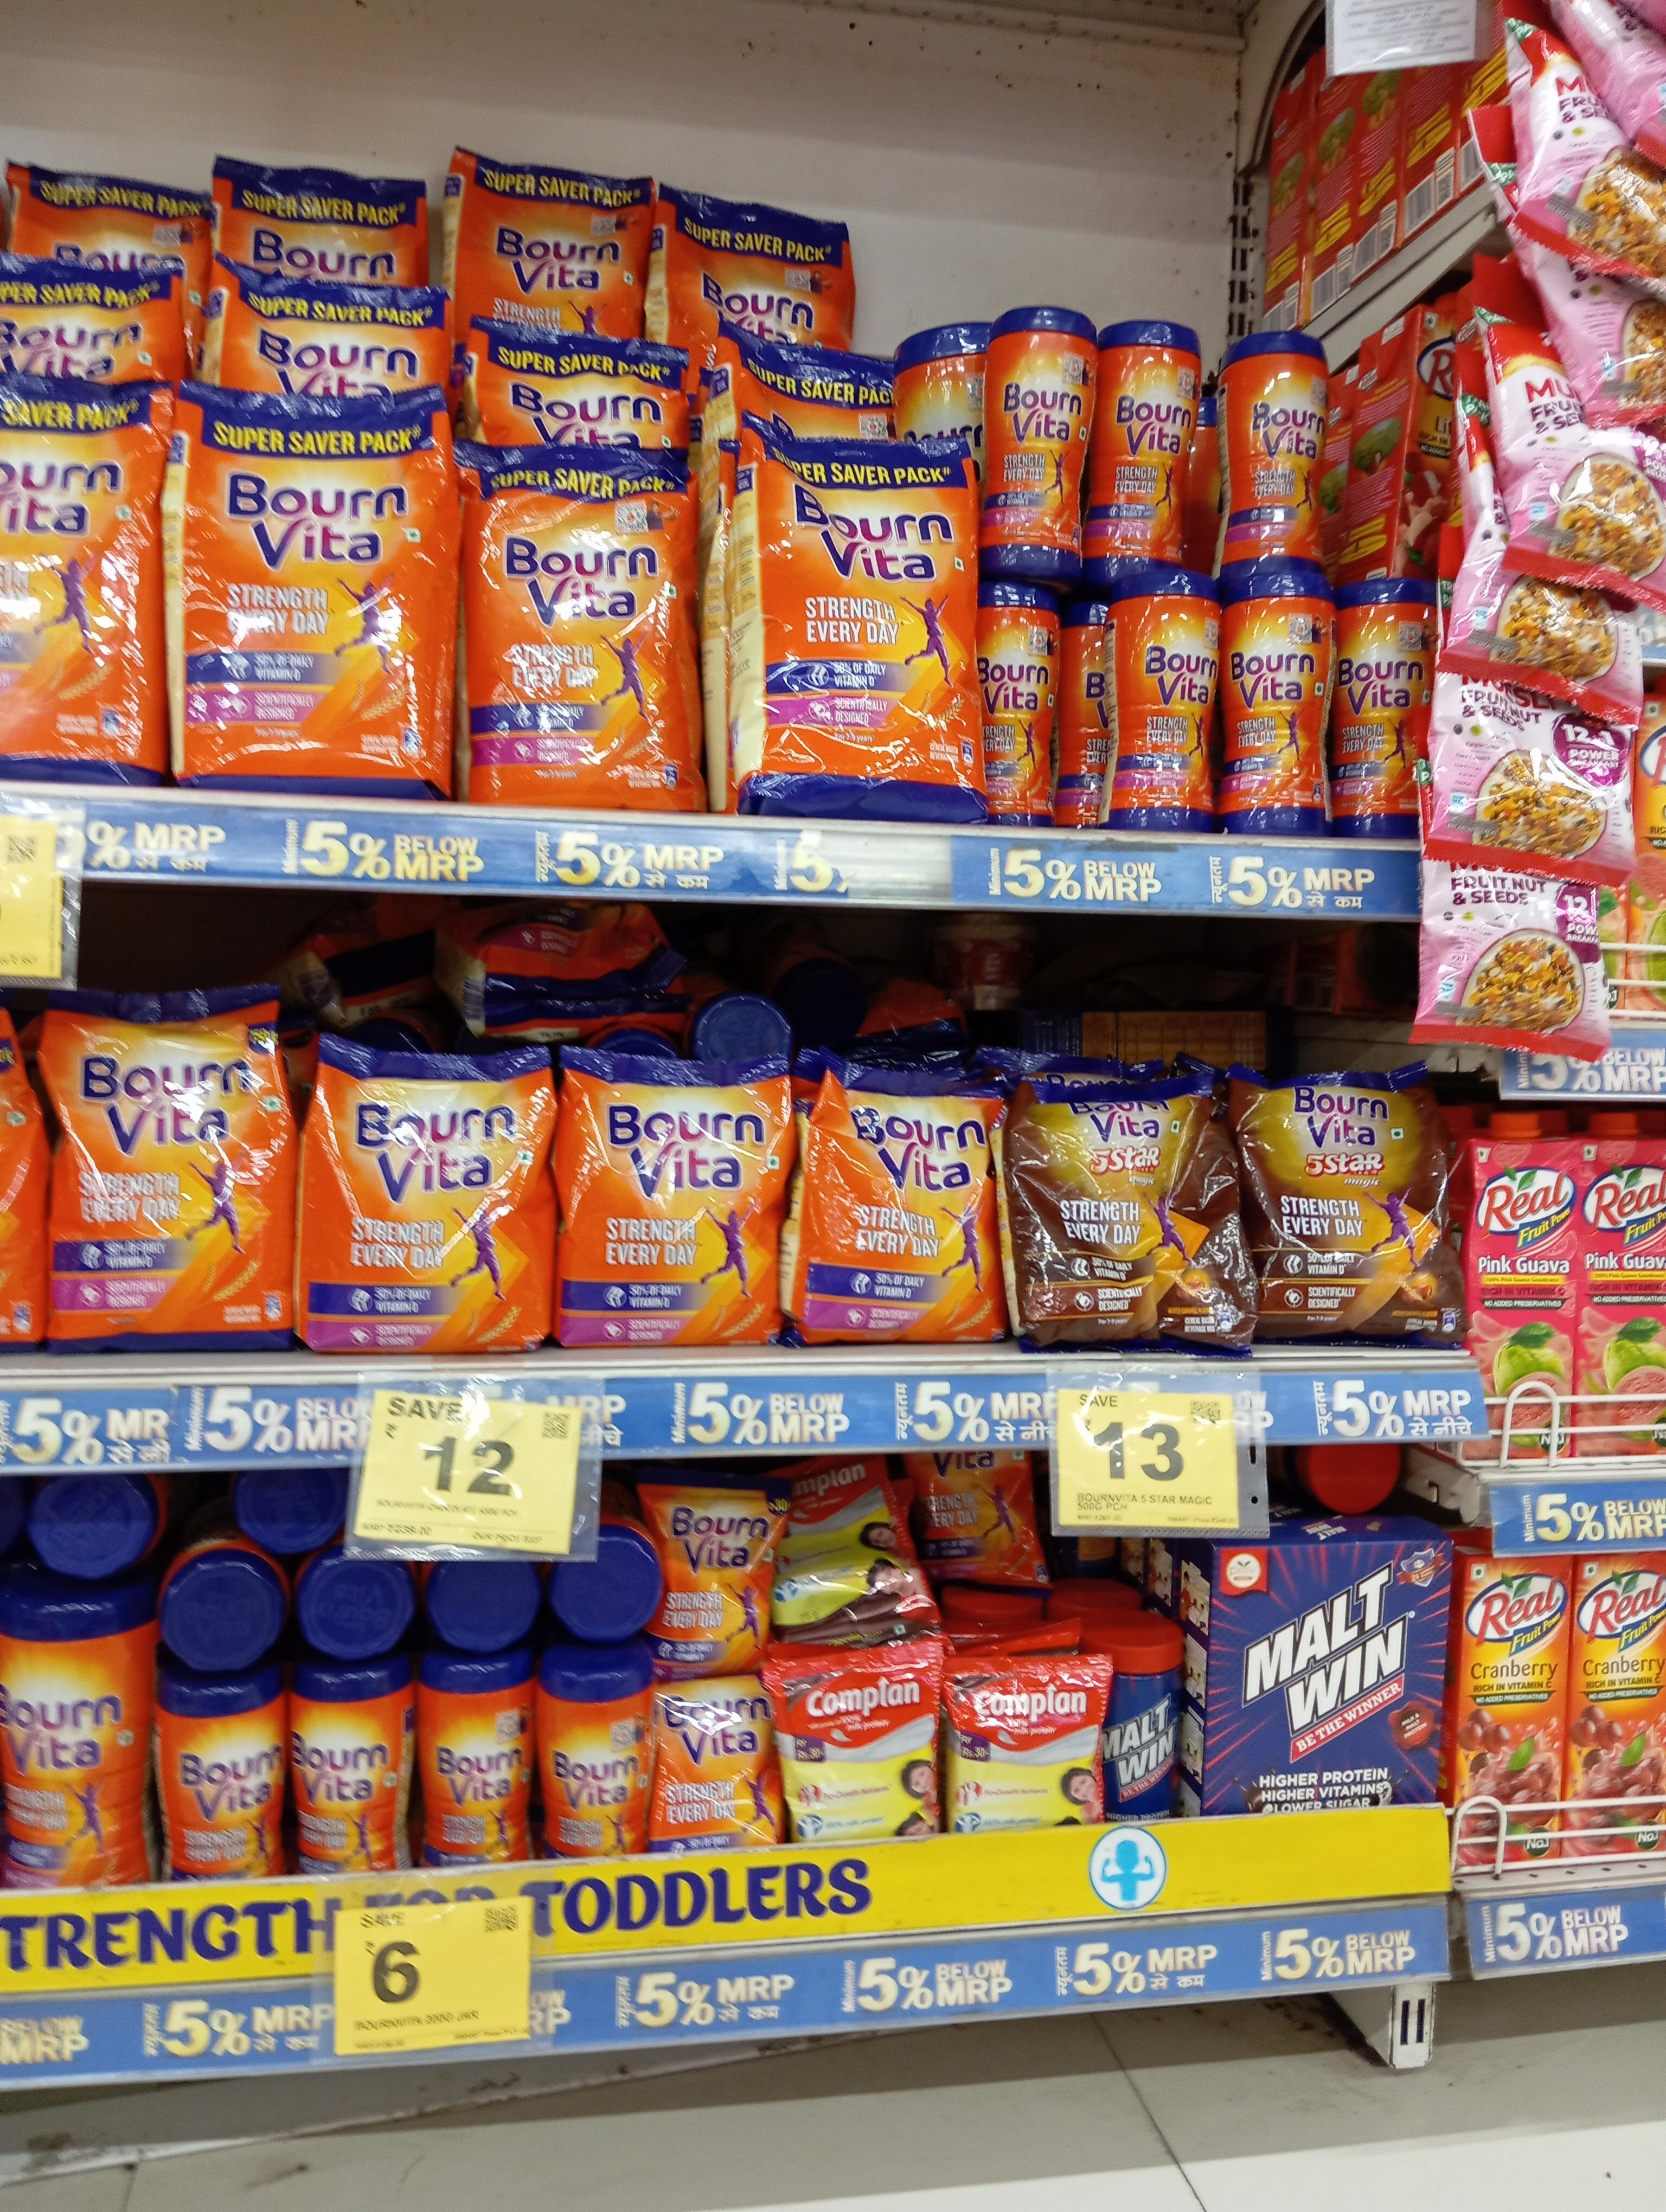BOURN_VITA_1_KG_POUCH: (168, 390, 455, 794), (728, 435, 980, 820), (462, 432, 700, 811)
BOURN_VITA_200_G_JAR: (161, 1663, 285, 1887), (291, 1665, 418, 1869), (425, 1651, 535, 1871), (542, 1649, 646, 1857)
BOURN_VITA_500_G_JAR: (4, 1591, 147, 1885), (1099, 568, 1223, 829), (1229, 558, 1333, 836), (1339, 567, 1437, 846), (1213, 330, 1335, 553)
BOURN_VITA_500_G_POUCH: (305, 1023, 532, 1357), (548, 1047, 795, 1353), (800, 1065, 1015, 1357)
BOURN_VITA_750_G_POUCH: (49, 995, 287, 1357)
BOURN_VITA_75_G_POUCH: (653, 1478, 768, 1672), (651, 1675, 768, 1852)
BOURN_VITA_FIVE_STAR_MAGIC_500_G_POUCH: (1022, 1060, 1230, 1359), (1260, 1061, 1440, 1350)
